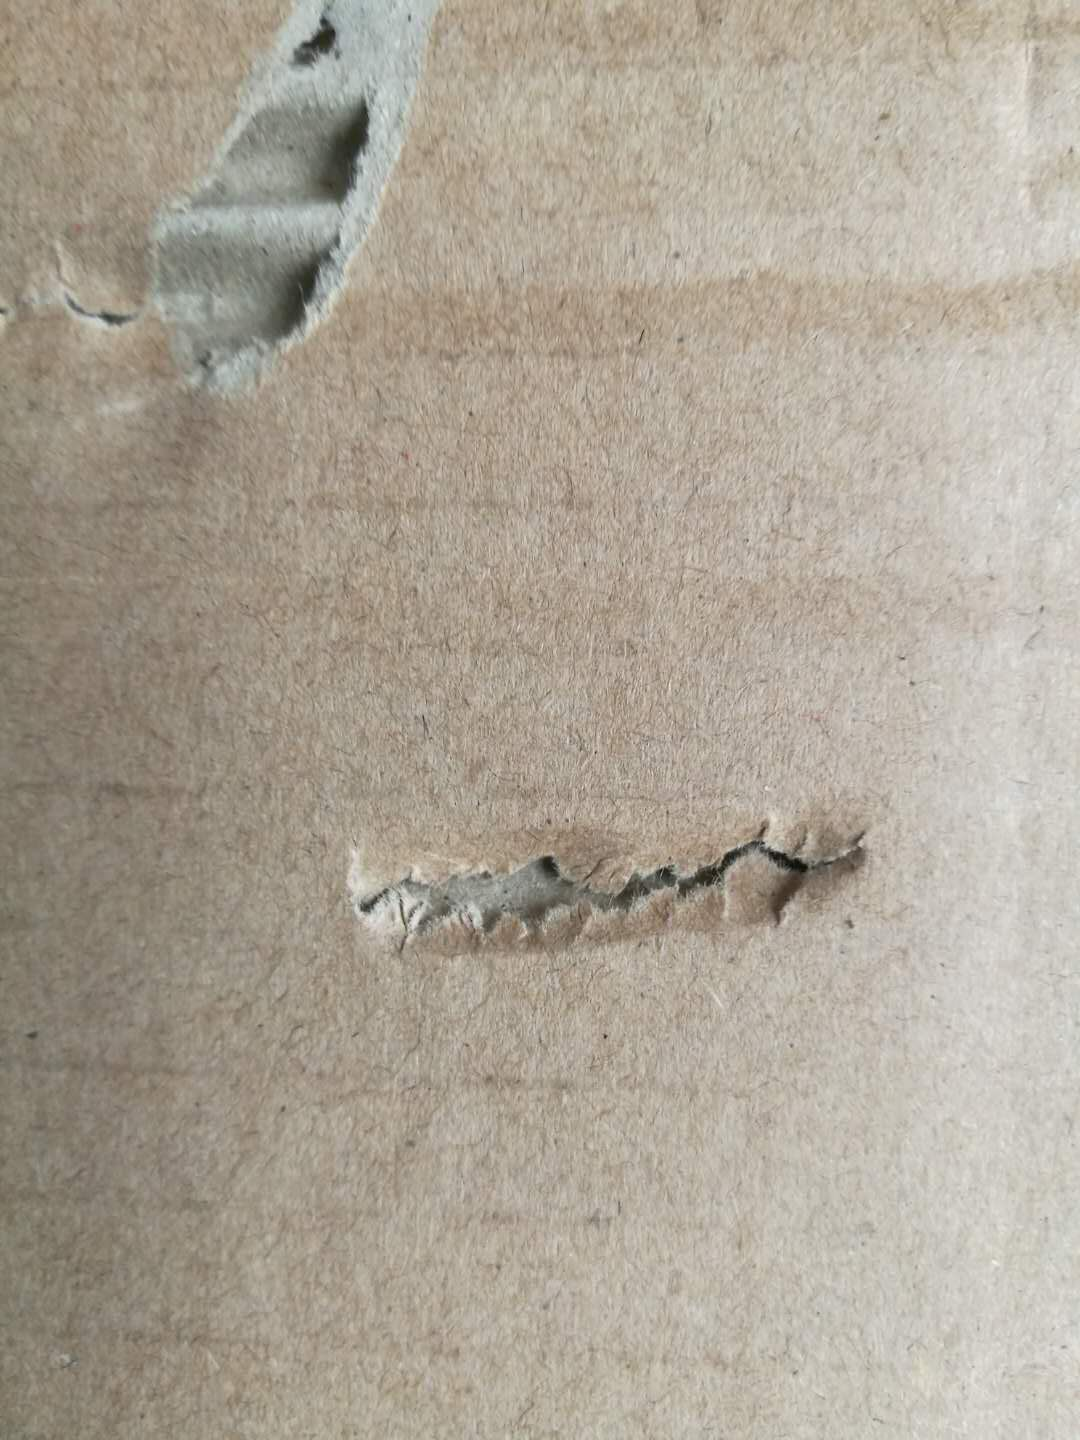defect: (5, 5, 565, 467), (311, 761, 952, 981), (354, 225, 1080, 403)
